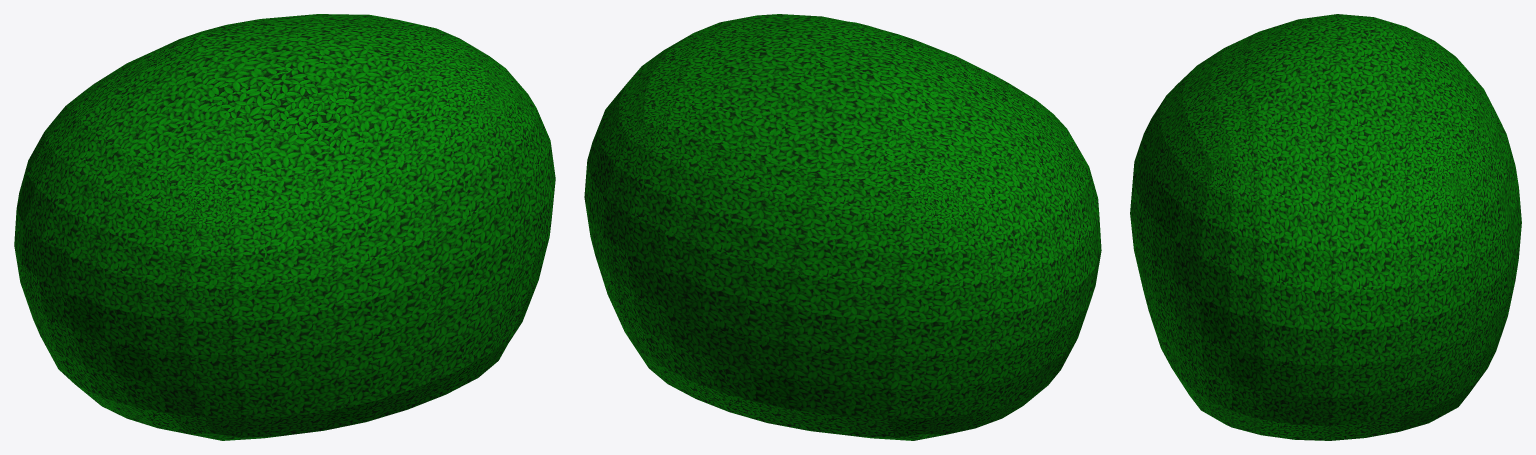
File: Arbusto.fbx
3 views of the same model, side by side, from view 1: azimuth 30°, elevation 25°; view 2: azimuth 150°, elevation 25°; view 3: azimuth 270°, elevation 25° (orthographic). The views are drawn at different scales.
Visible parts, largest first — view 1: Cube; view 2: Cube; view 3: Cube.
Boxes of the visible parts, left/top/right/bottom form: Cube: left=14, top=14, right=555, bottom=440; Cube: left=584, top=14, right=1101, bottom=440; Cube: left=1130, top=14, right=1521, bottom=440.
Size of the model in its own units: 195 by 132 by 143.
Materials: 1 (1 with a texture image).
